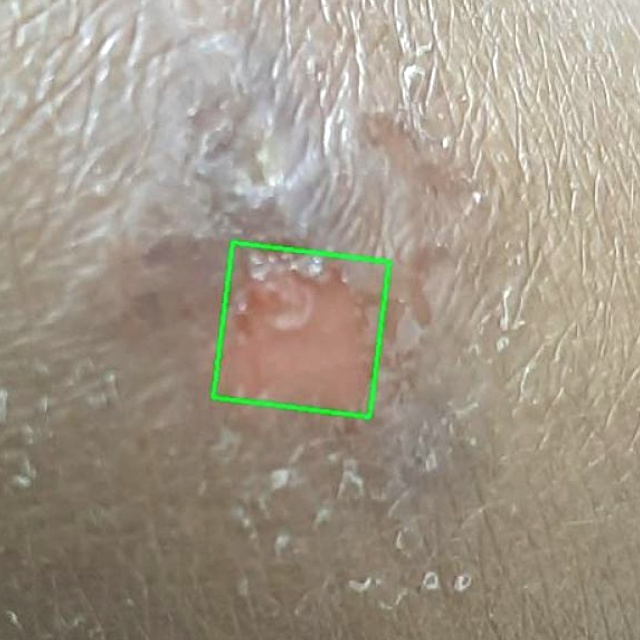Eczema: (212, 243, 388, 418)
